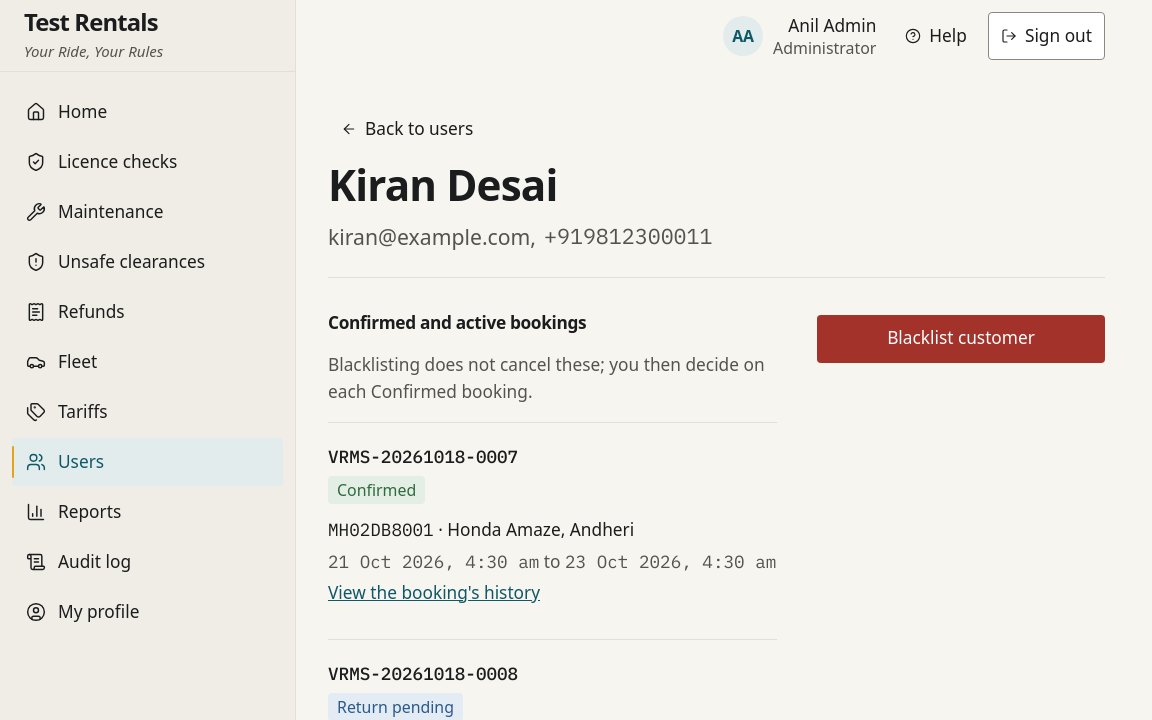
Test: audit log (Fleet.Audit, SE-10) › opens pre-filtered on one booking from the blacklist screen
Click the link with aria-label "View the booking's history for VRMS-20261018-0007" at (434, 592), box [328,581,540,604]
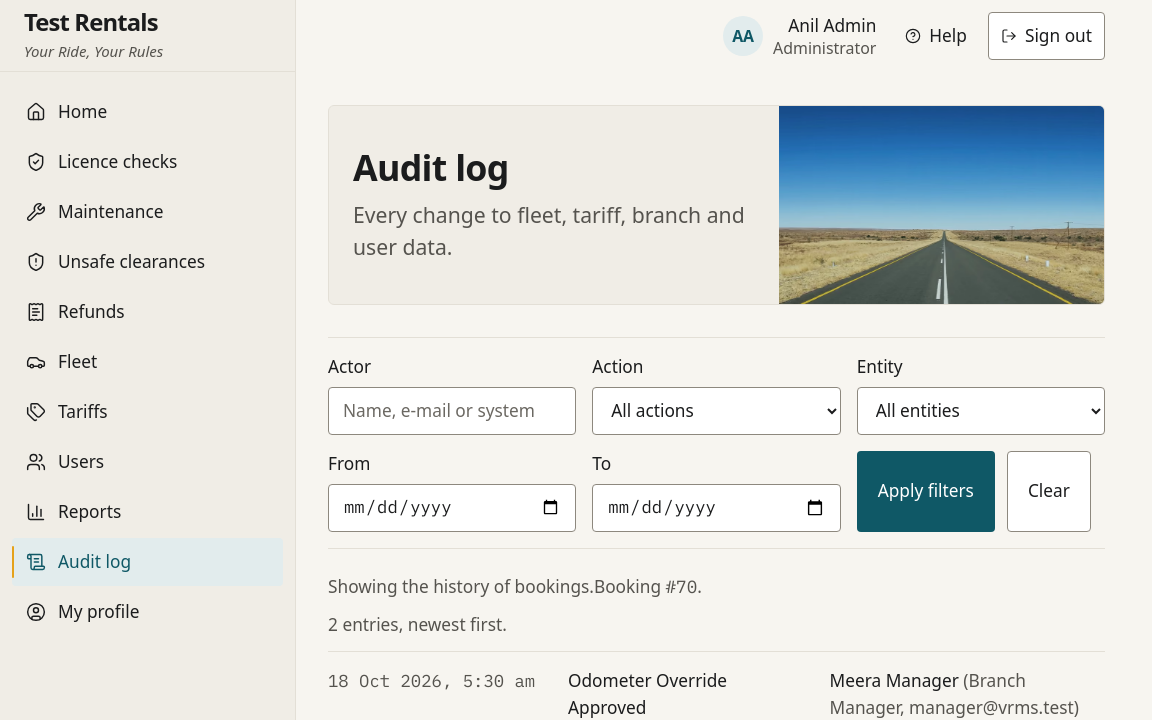
Result: the text "Showing the history of bookings.Booking #70." is shown at [328,575,702,598]
